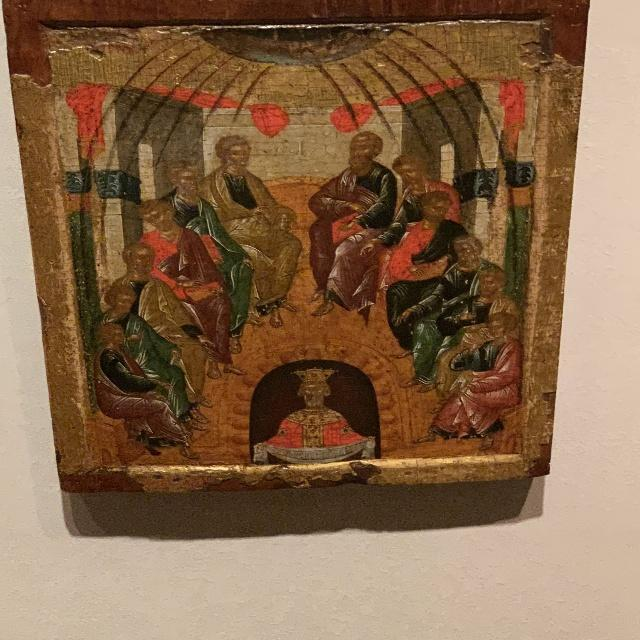crown: (290, 367, 340, 381)
saint: (400, 244, 508, 443), (203, 130, 303, 320), (124, 204, 237, 370), (308, 127, 388, 330), (164, 164, 250, 335), (349, 163, 455, 297), (116, 251, 207, 403), (93, 328, 182, 454), (439, 318, 517, 428), (453, 274, 513, 320), (100, 293, 153, 344)
